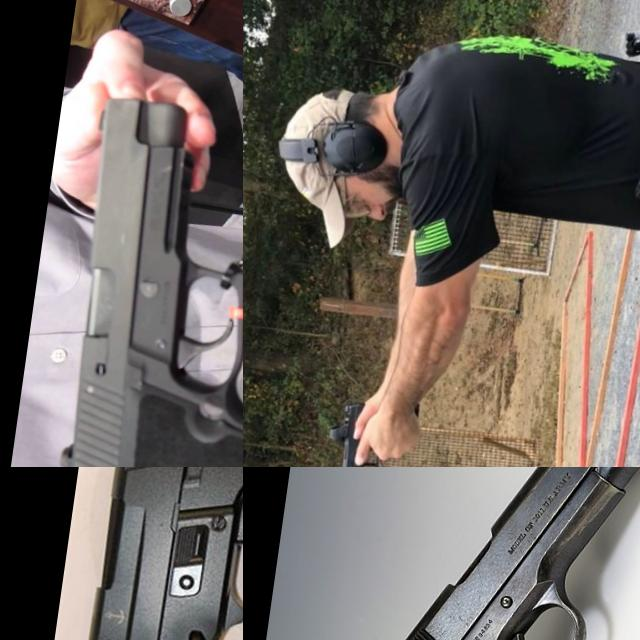handgun: (37, 86, 243, 467), (315, 467, 640, 640), (48, 467, 243, 640), (318, 394, 389, 467)
